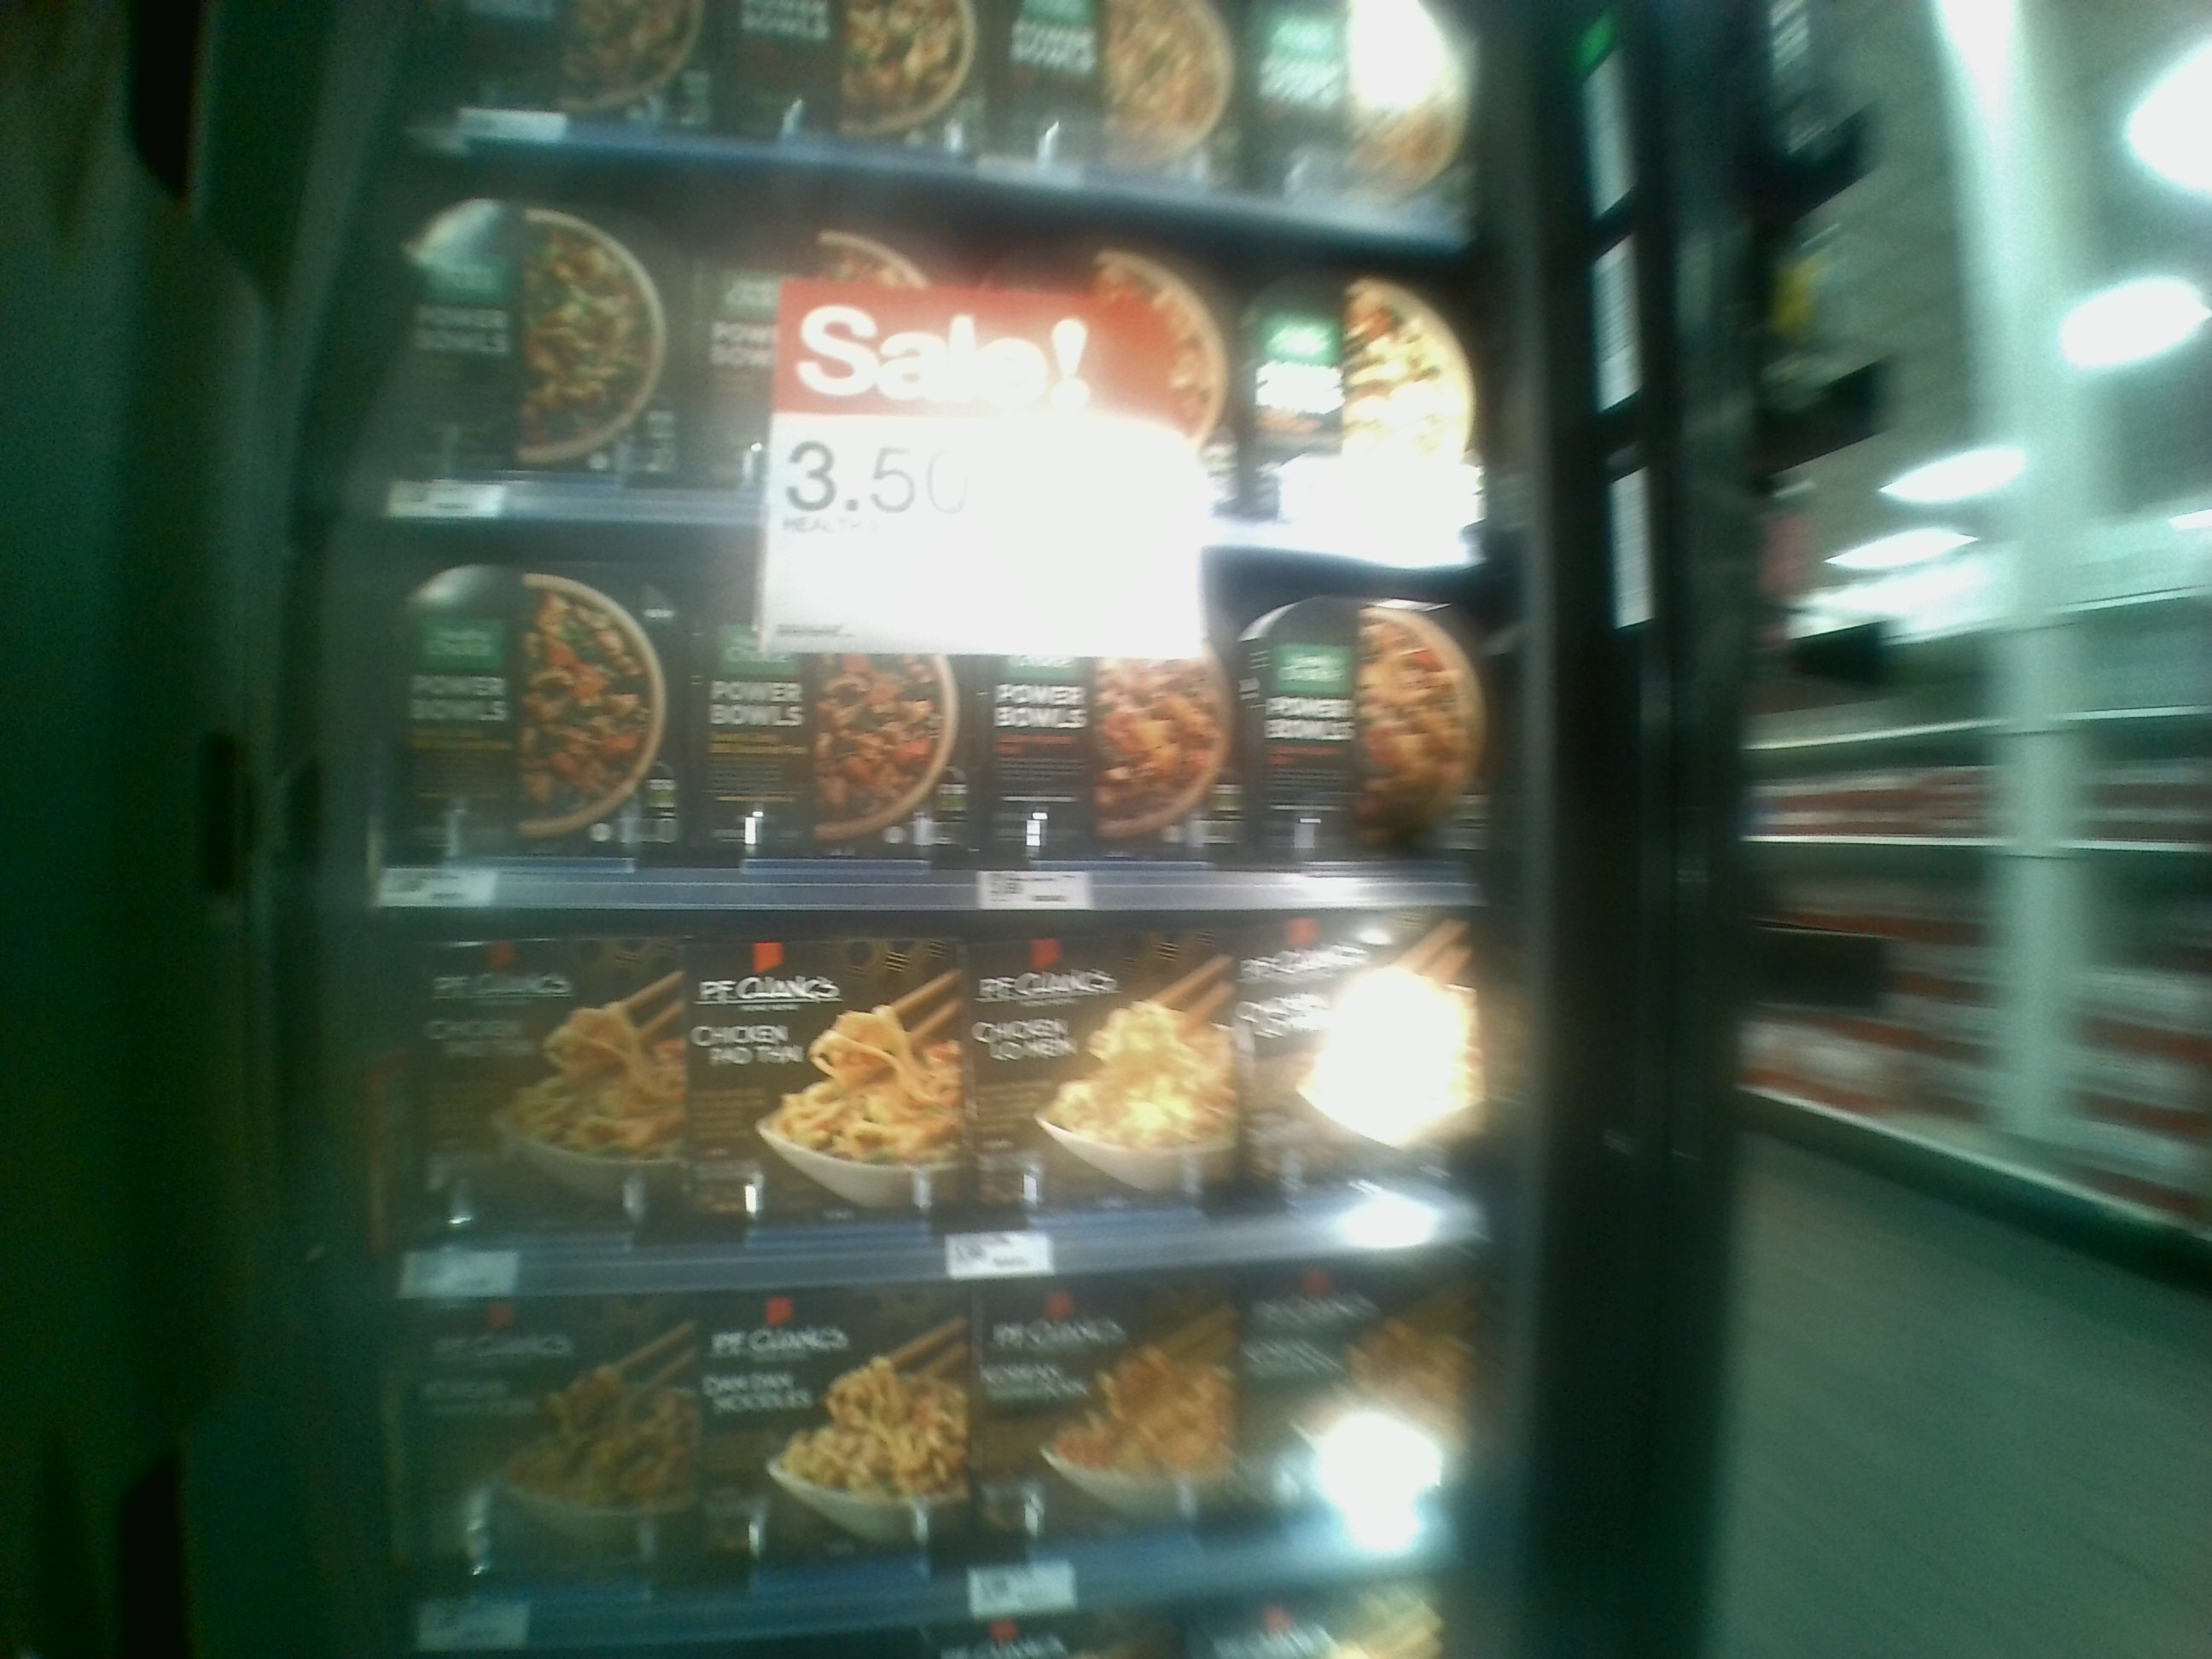shelf: (362, 502, 1508, 922), (373, 899, 1505, 1270)
